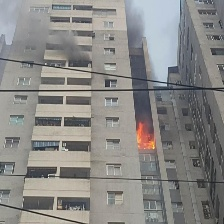fire: (131, 120, 158, 149)
smoke: (1, 14, 89, 64), (121, 1, 156, 125)
